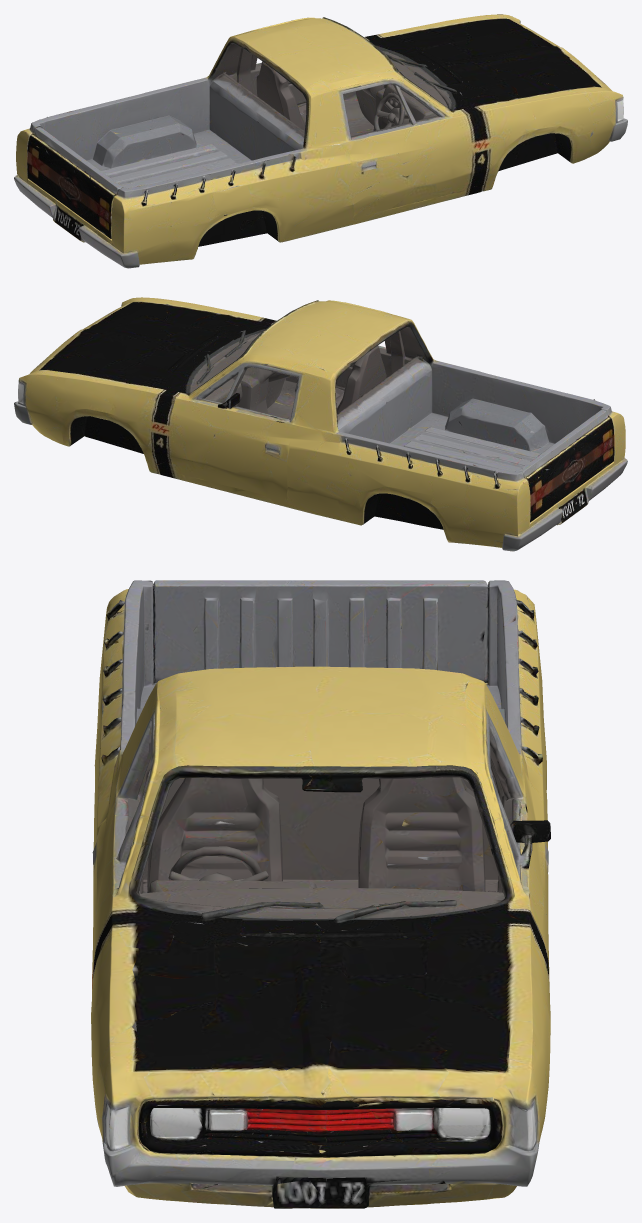
The picture shows the model from 3 angles, top to bottom: view 1: azimuth 30°, elevation 25°; view 2: azimuth 150°, elevation 25°; view 3: azimuth 270°, elevation 25°; orthographic projection. The views are drawn at different scales.
Visible parts, largest first — view 1: vh_rt; view 2: vh_rt; view 3: vh_rt.
Boxes of the visible parts, left/top/right/bottom form: vh_rt: left=14, top=14, right=627, bottom=268; vh_rt: left=14, top=297, right=627, bottom=551; vh_rt: left=91, top=580, right=550, bottom=1208.
Size of the model in its own units: 5 by 1.28 by 1.95.
Materials: 1 (1 with a texture image).
